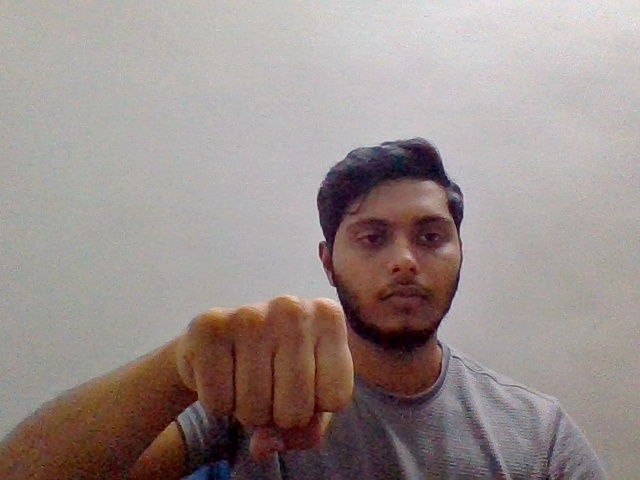Yes: (162, 292, 360, 462)
